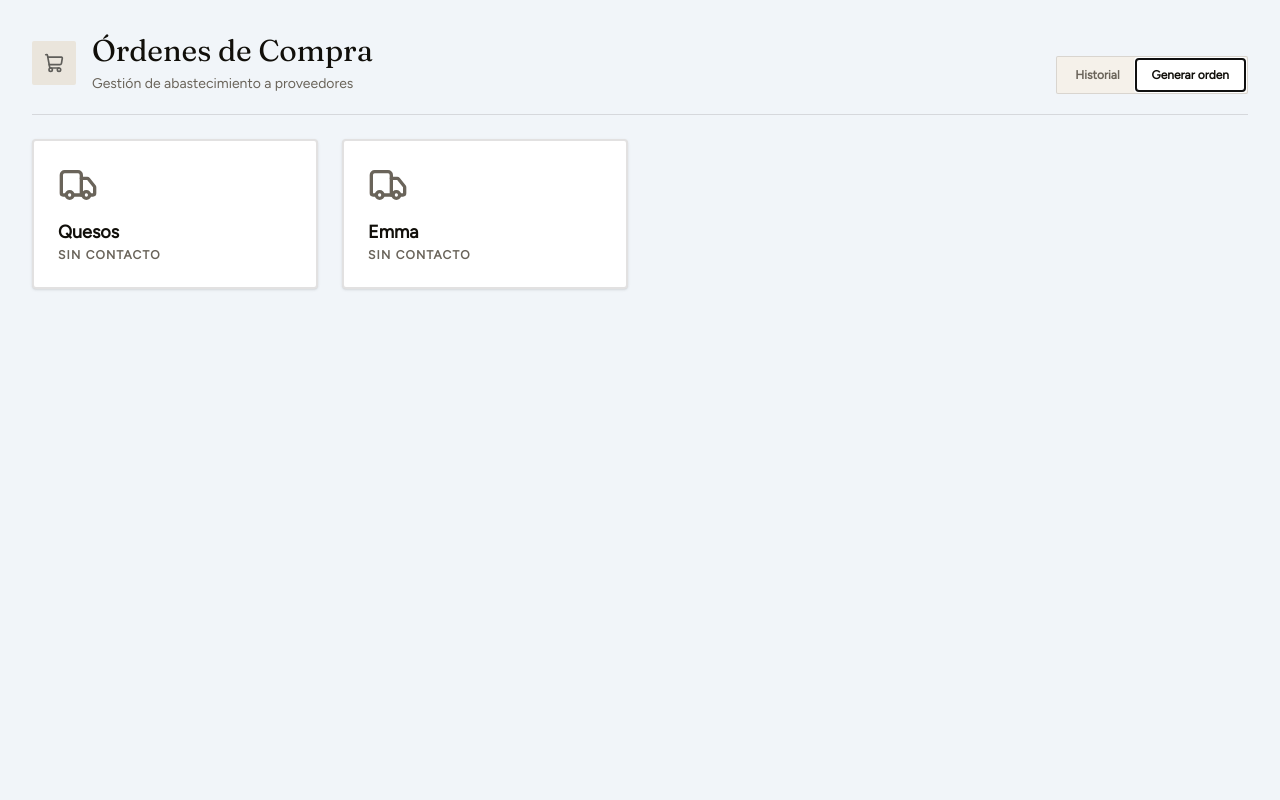
Test: ComprasScreen · mandar la orden al proveedor › si se abrio, el flujo se cierra como siempre
Earlier steps of the test are not shown.
Click the button "Quesos Sin contacto" at coordinates (78, 184), box [32,138,318,289]
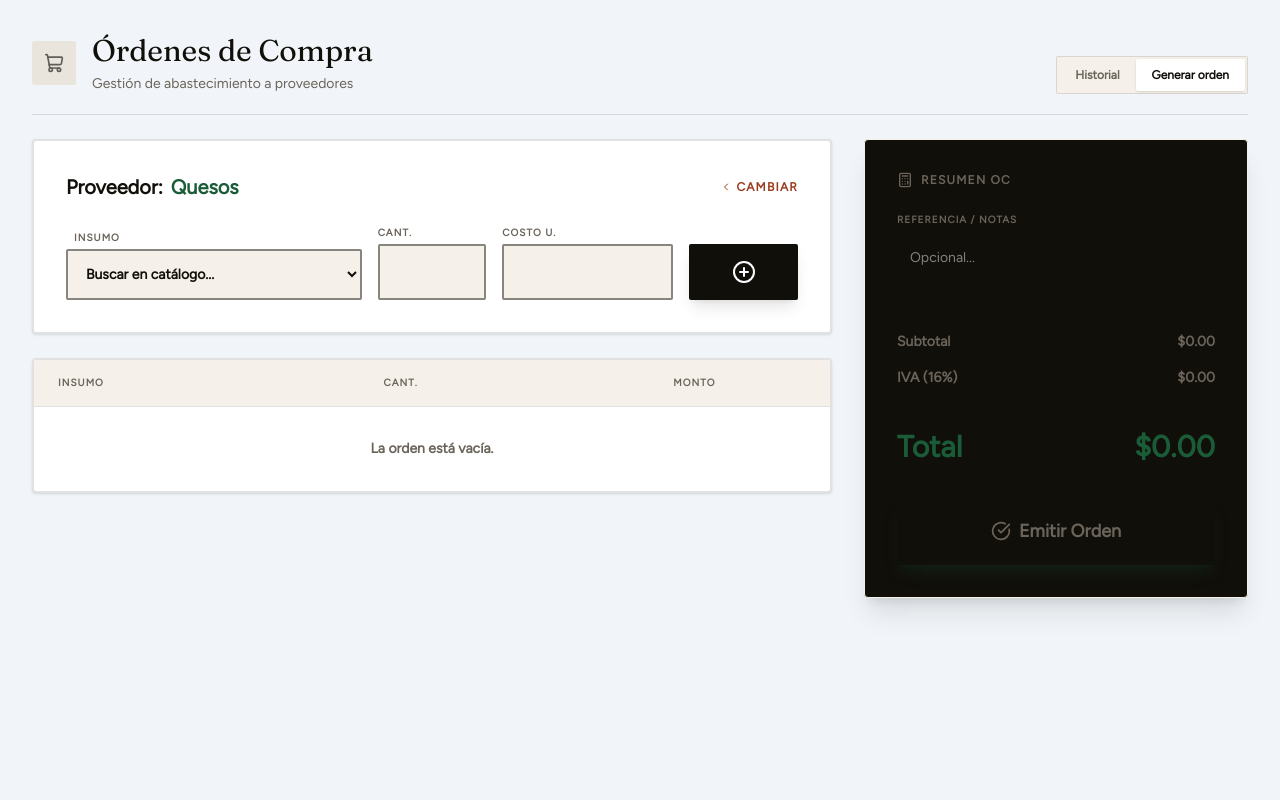
Select "Queso Manchego (kg)" in the dropdown named "Insumo" at coordinates (214, 274), box [66,248,362,300]
Type "2" into the number field named "Cantidad" at coordinates (432, 272), box [378,244,486,300]
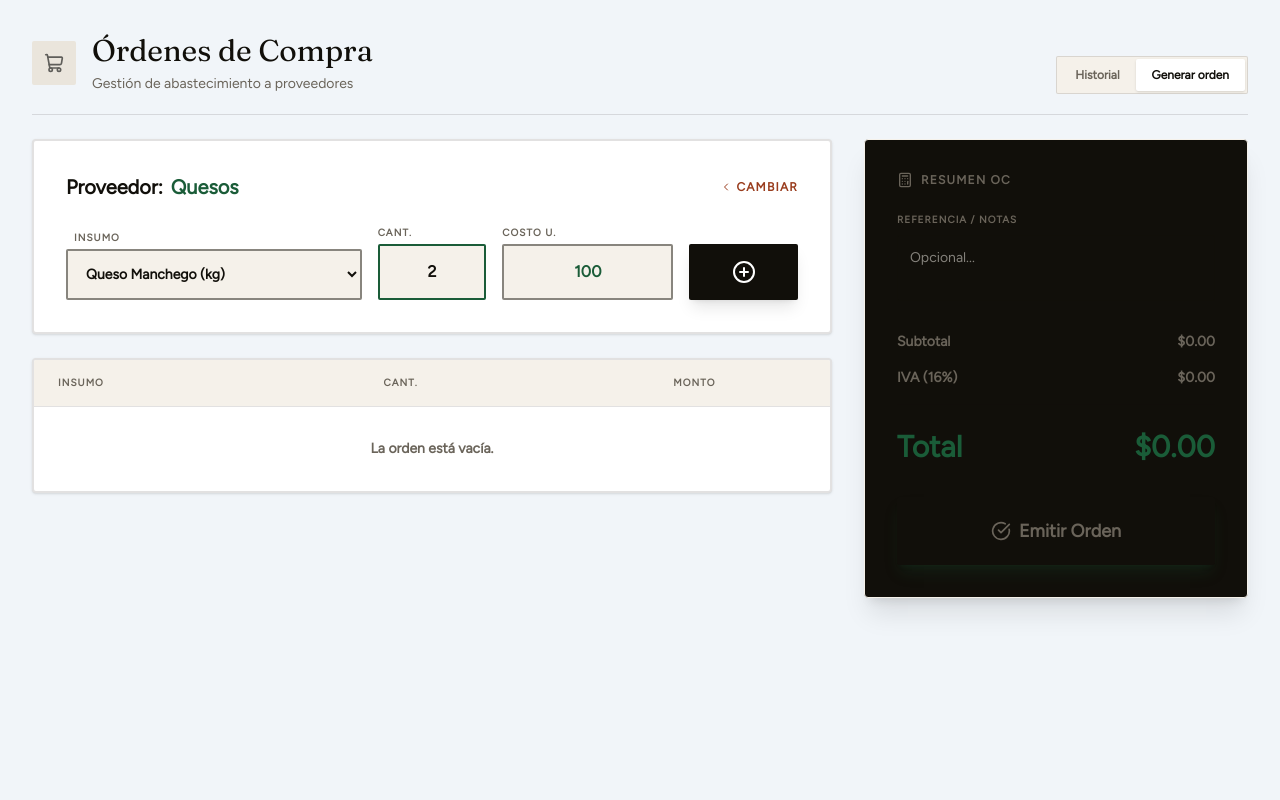
Replace the text in the number field named "Costo unitario" with "50" at coordinates (588, 272), box [502,244,673,300]
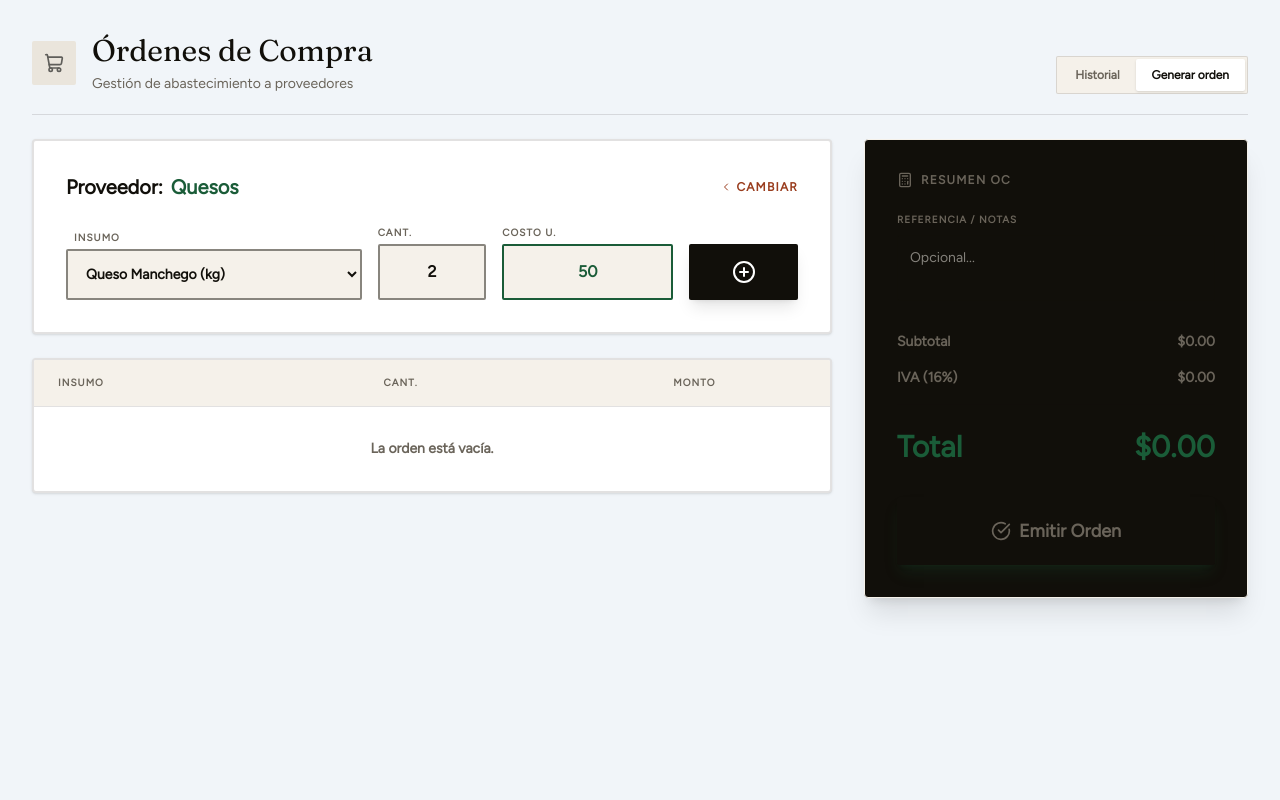
Click the button named "Agregar a la orden" at coordinates (744, 272), box [689,244,798,300]
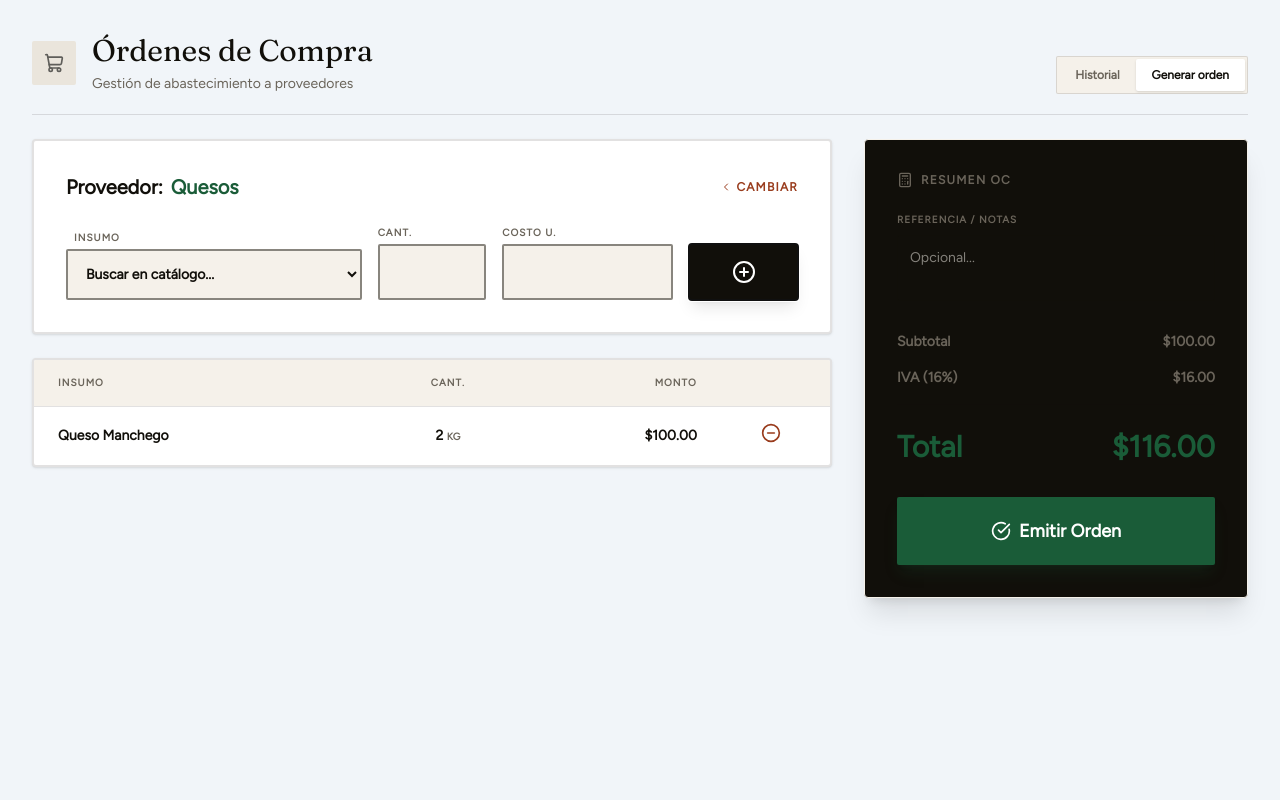
Click the button "Emitir Orden" at coordinates (1056, 530), box [897,496,1215,564]
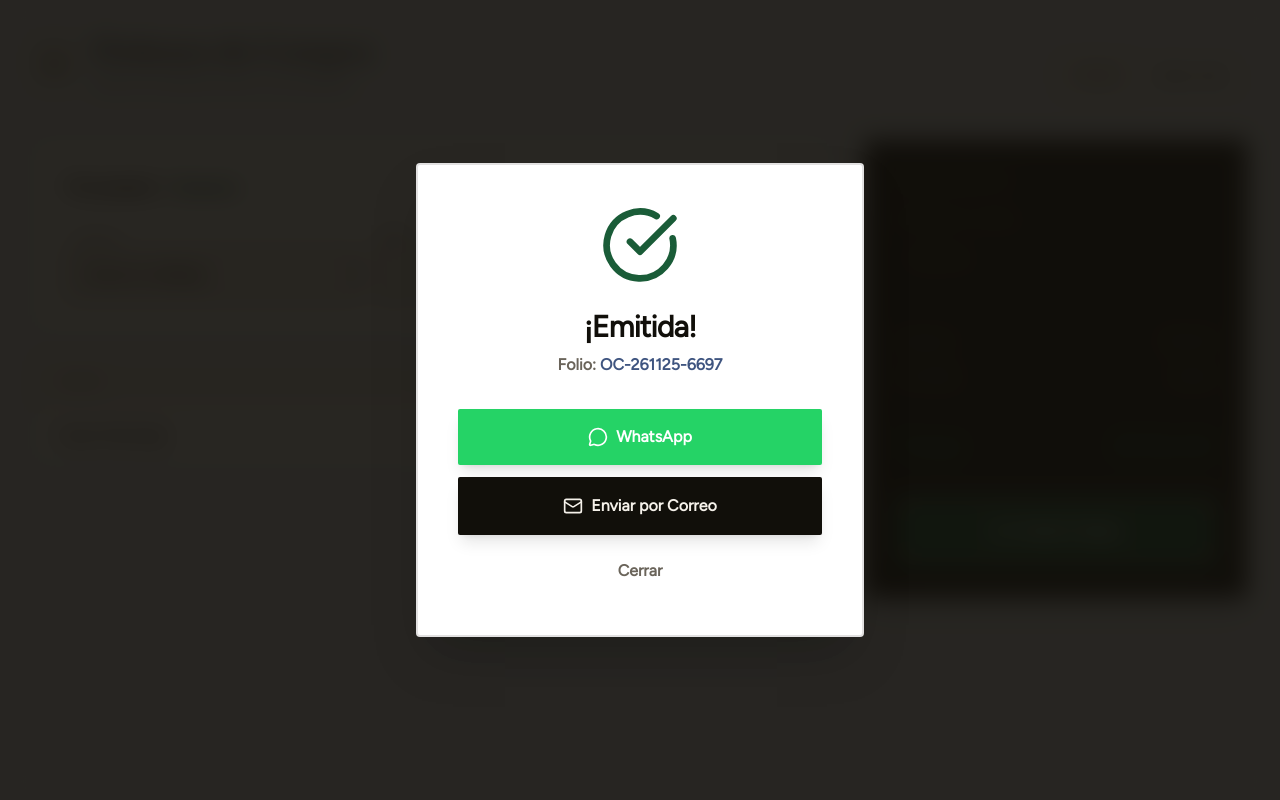
Click the button "WhatsApp" at coordinates (640, 437), box [458,409,822,465]
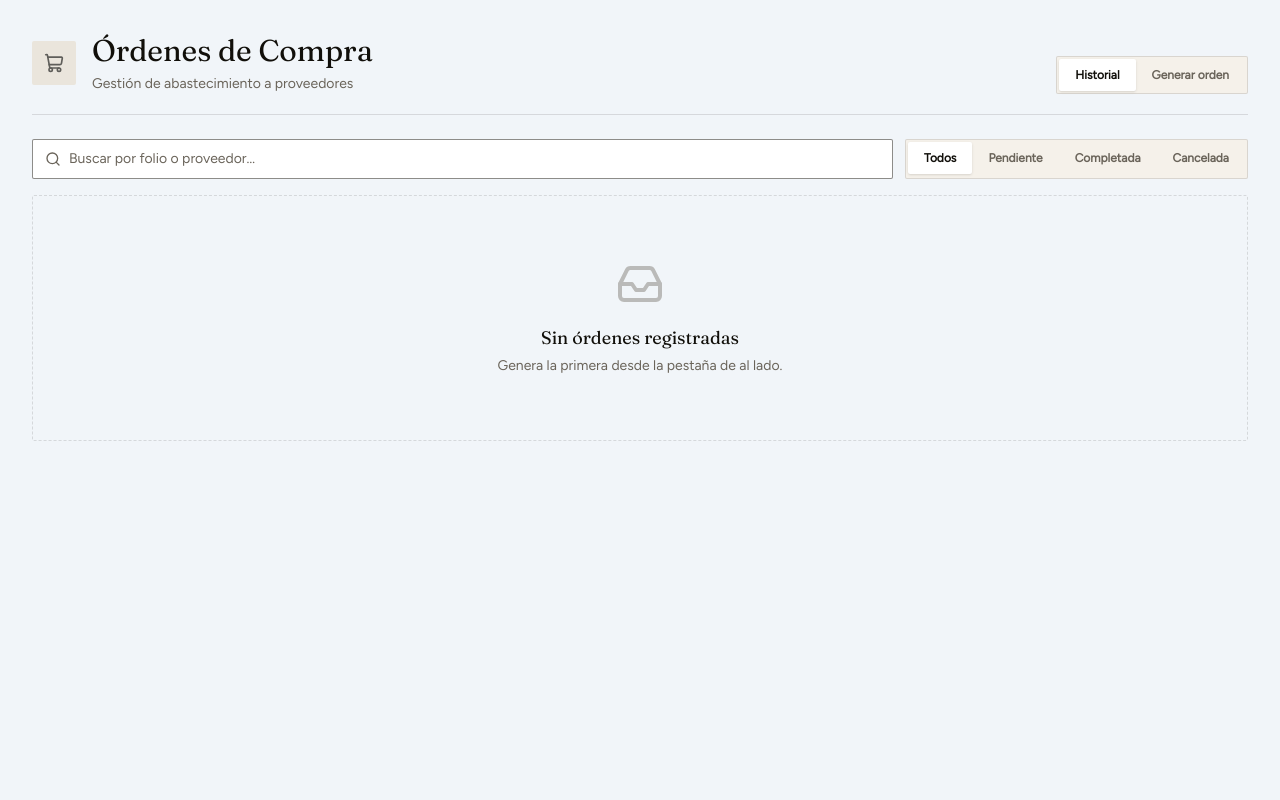
Expected: the heading "¡Emitida!" is gone
